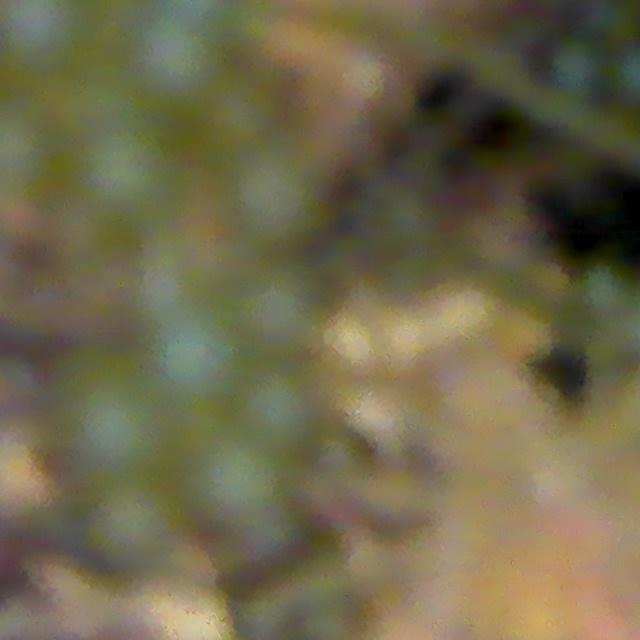SeaGrape: (188, 430, 290, 528), (242, 142, 338, 246), (236, 256, 332, 359), (59, 380, 151, 484), (76, 121, 184, 209), (88, 496, 180, 584), (130, 14, 221, 102), (151, 316, 238, 404), (203, 67, 287, 154), (0, 100, 62, 201), (0, 0, 92, 63), (238, 375, 313, 446), (548, 37, 605, 96)
